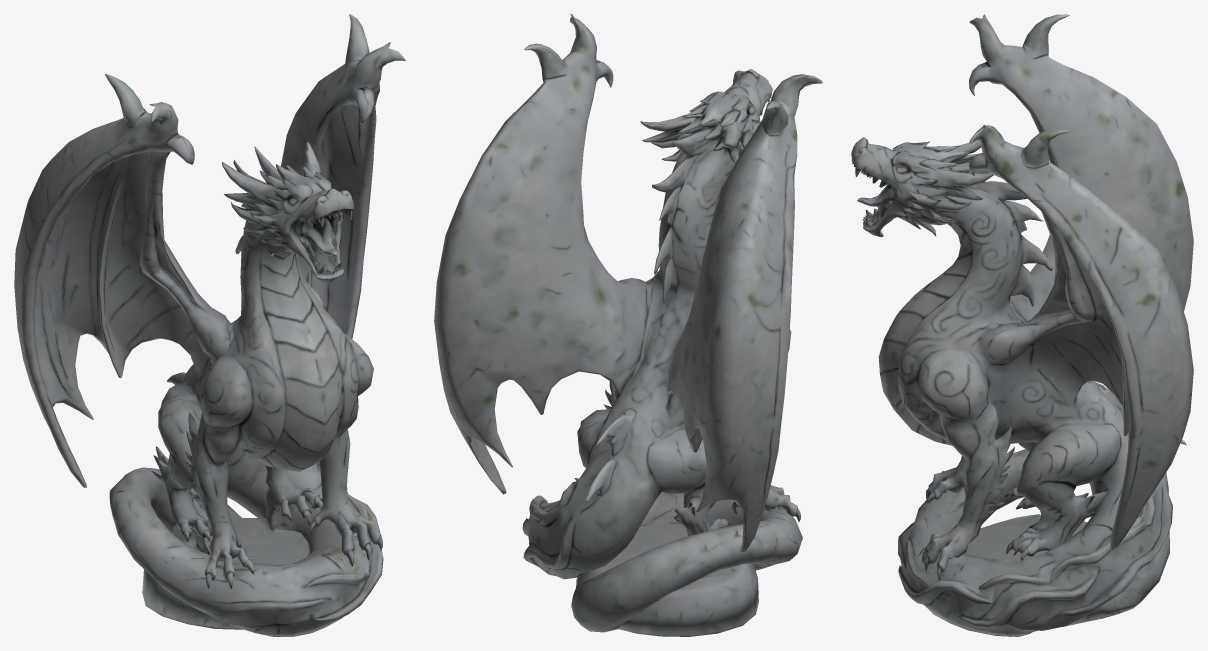
Rendered from dragon_statue.glb.
3 views of the same model, side by side, from view 1: azimuth 30°, elevation 25°; view 2: azimuth 150°, elevation 25°; view 3: azimuth 270°, elevation 25° (orthographic). The views are drawn at different scales.
Visible parts, largest first — view 1: geometry_0; view 2: geometry_0; view 3: geometry_0.
Part boxes in pixels (bbox=[...]): geometry_0: bbox=[14, 14, 405, 636]; geometry_0: bbox=[434, 14, 822, 636]; geometry_0: bbox=[851, 14, 1193, 636].
Bounding box in the file's own units: 0.6392 × 0.9531 × 0.564.
1 material, 1 textured.
